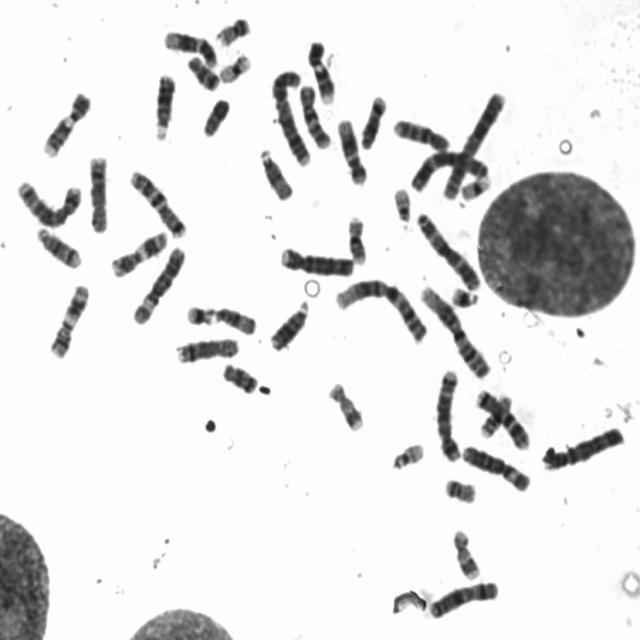A1: (414, 278, 493, 381), (328, 269, 432, 345)
A2: (437, 82, 509, 202), (266, 62, 312, 167)
A3: (410, 204, 482, 292), (405, 142, 491, 193)
B4: (535, 418, 626, 472), (275, 239, 356, 278)
B5: (11, 172, 83, 228), (429, 362, 463, 463)
C10: (293, 78, 333, 150), (388, 110, 452, 153)
C11: (43, 276, 91, 360), (105, 222, 170, 279)
C12: (158, 22, 220, 68), (332, 111, 369, 187)
C6: (126, 239, 188, 326), (456, 437, 533, 494)
C7: (124, 162, 188, 239), (469, 382, 532, 451)
C8: (82, 147, 110, 235), (170, 330, 242, 364)
C9: (36, 82, 92, 159), (302, 32, 338, 104)
D13: (264, 292, 311, 353), (148, 66, 178, 142)
D14: (30, 219, 84, 270), (354, 86, 389, 150)
D15: (254, 141, 295, 202), (207, 298, 259, 337)
E16: (475, 387, 514, 440), (342, 208, 370, 266)
E17: (322, 374, 367, 433), (447, 521, 483, 582)
E18: (182, 47, 222, 92), (217, 356, 260, 395)
F19: (214, 45, 253, 85), (456, 170, 492, 201)
F20: (211, 9, 253, 47), (438, 470, 478, 505)
G21: (180, 297, 217, 328), (445, 279, 481, 309)
G22: (386, 434, 427, 471), (388, 180, 413, 223)
X: (422, 572, 501, 621)
Y: (196, 89, 232, 138)
